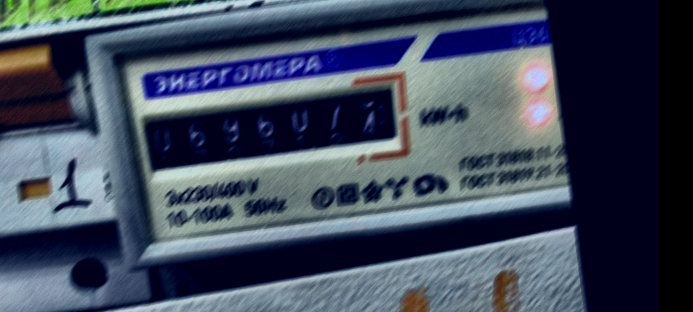0: (287, 102, 310, 134), (150, 123, 172, 153)
4: (358, 108, 377, 138)
6: (253, 108, 276, 140), (185, 117, 207, 148)
7: (323, 99, 344, 131)
9: (219, 114, 240, 144)
screen: (125, 64, 419, 190)
